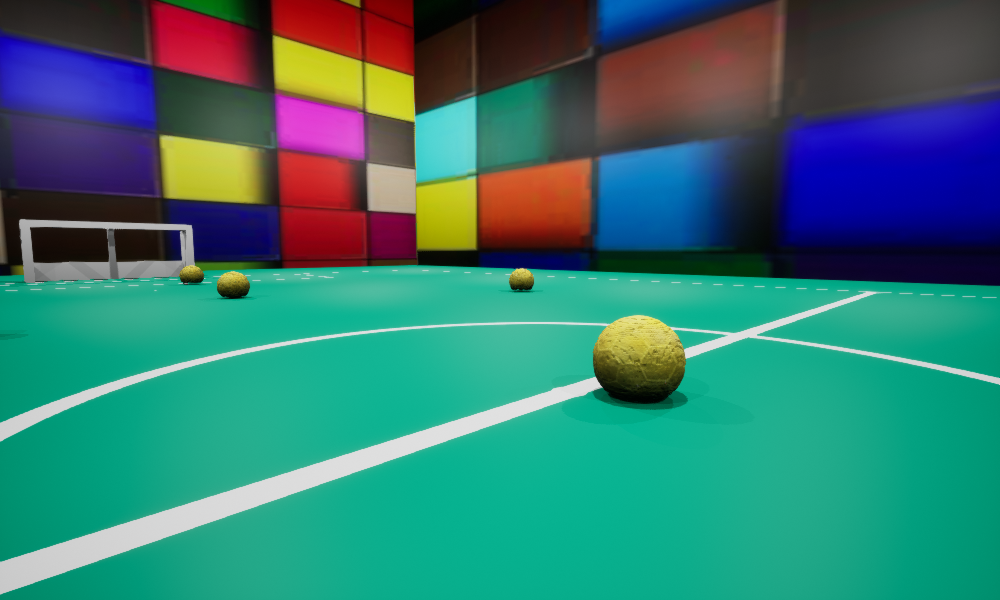b: (593, 315, 685, 401), (217, 271, 249, 296), (509, 268, 533, 291), (179, 265, 203, 284)
g: (19, 219, 194, 282)
